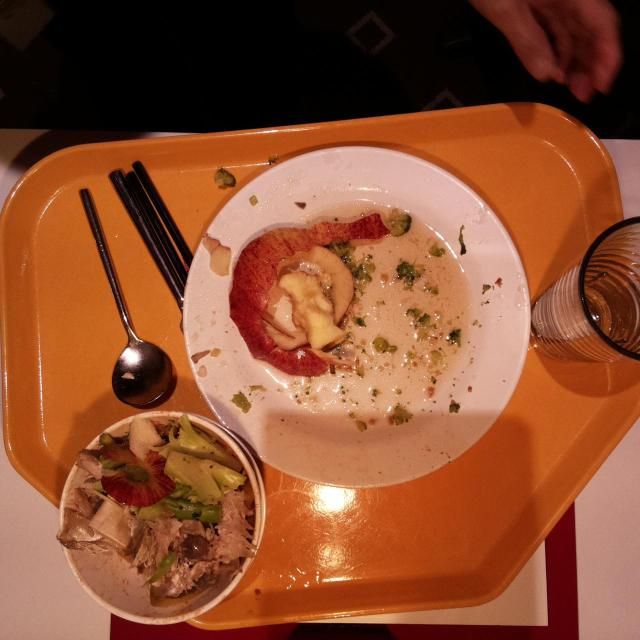Apple-core: (278, 268, 348, 354)
Apple-peel: (231, 232, 353, 374), (97, 445, 175, 507)
Bone-fish: (133, 520, 207, 598), (207, 488, 257, 560)
Vegetable: (161, 418, 245, 522)
